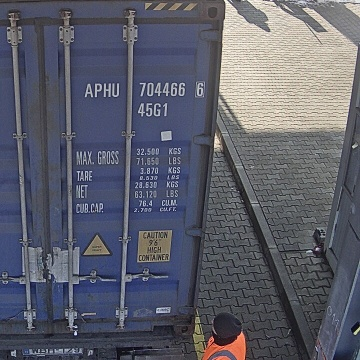serial_id: (84, 82, 204, 97)
